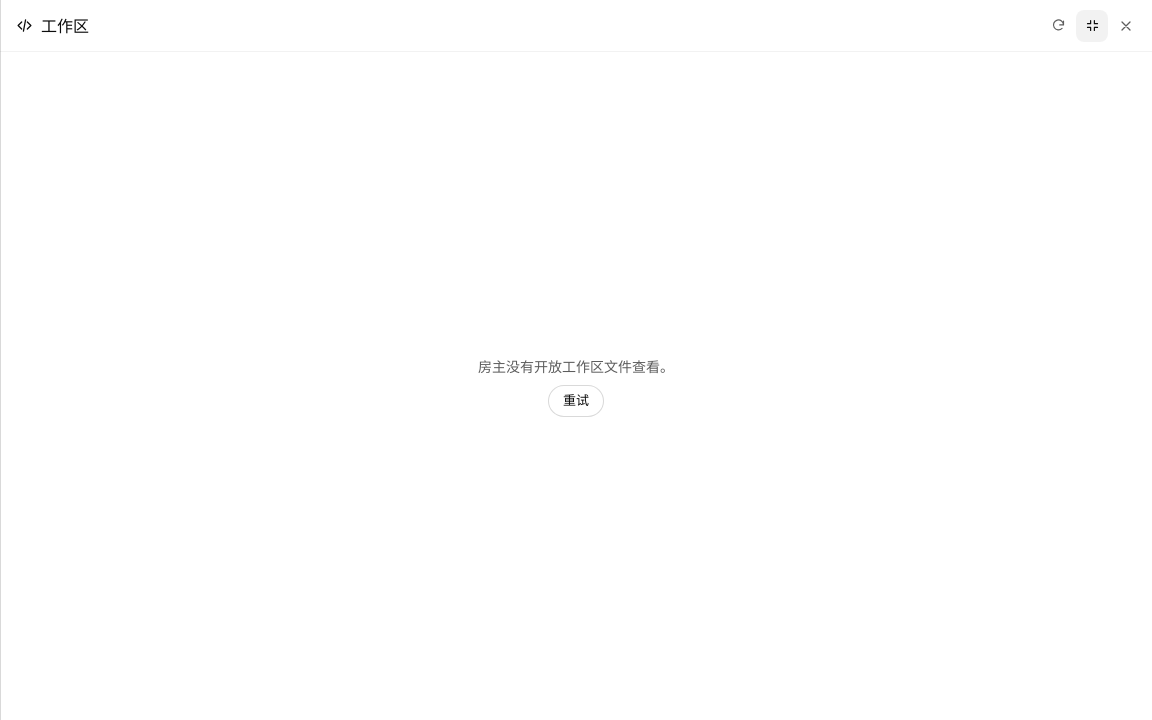
Scenario: WorkspacePanel › 加载失败时显示服务端说明并可重试
Click the button "重试".
click(576, 400)  # box [548,384,604,416]
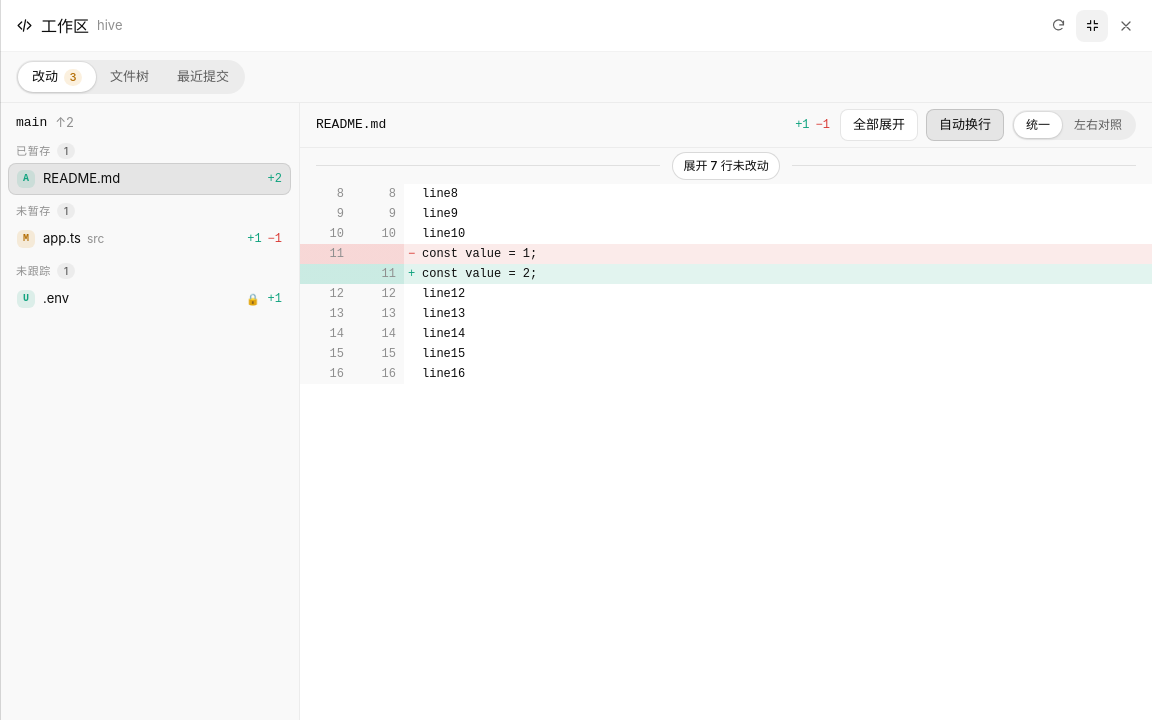
Check: the element named "改动的文件" is shown, box [0,103,300,719]
